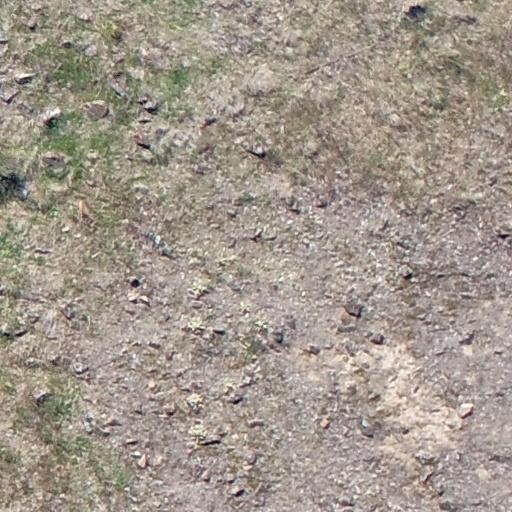stone: (84, 99, 110, 119), (344, 299, 366, 317), (358, 417, 376, 438), (134, 149, 155, 165), (33, 390, 51, 408), (271, 329, 289, 347), (284, 196, 302, 214), (239, 370, 257, 388), (110, 81, 128, 99), (14, 70, 35, 85), (134, 132, 152, 149), (60, 304, 77, 322), (3, 87, 22, 103), (397, 265, 415, 281), (415, 449, 433, 465), (459, 403, 476, 419), (196, 436, 222, 446), (458, 332, 476, 346), (158, 246, 176, 260), (72, 362, 90, 375), (422, 470, 436, 486), (126, 275, 142, 289), (336, 323, 358, 333), (137, 452, 149, 470), (302, 344, 320, 356), (80, 200, 91, 219), (336, 498, 356, 508), (104, 417, 122, 428), (252, 142, 266, 156), (378, 218, 392, 232), (369, 333, 385, 345), (229, 484, 245, 496), (247, 417, 264, 428), (59, 36, 74, 48), (146, 340, 162, 351), (395, 240, 411, 251), (227, 394, 244, 404), (245, 453, 258, 466), (162, 406, 176, 418), (368, 390, 382, 402), (344, 343, 356, 357), (212, 325, 227, 336), (190, 299, 205, 310), (50, 352, 62, 365), (33, 247, 52, 255), (144, 98, 156, 110), (319, 418, 332, 429), (316, 199, 330, 209), (135, 96, 149, 106), (27, 18, 39, 29), (200, 469, 211, 481), (127, 292, 138, 304), (112, 52, 125, 62), (497, 232, 511, 241), (137, 116, 152, 124), (154, 454, 164, 466), (112, 70, 124, 80), (226, 208, 238, 218), (147, 379, 157, 391), (242, 462, 254, 472), (140, 296, 152, 306), (488, 176, 498, 187), (226, 474, 237, 484), (85, 426, 95, 436), (126, 438, 138, 446), (493, 348, 505, 356), (131, 451, 142, 459), (61, 225, 71, 233)
